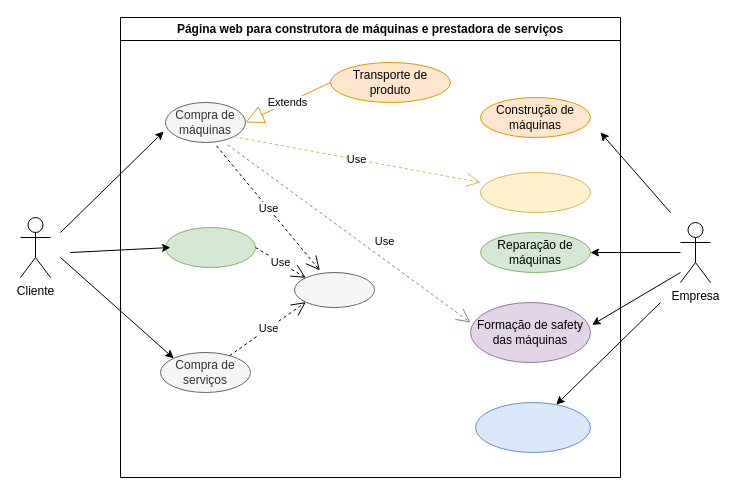
Some shapes in this 737 by 495 pixel diagram are drawn without their labels. Here are the shapes that lost their labels. From the top down, the box of each, then its label:
(480, 172, 590, 212): Formação de utilização
(164, 226, 256, 268): Compra de material
(294, 272, 374, 308): Log in página web
(474, 402, 590, 452): Manutenção da pagina web
